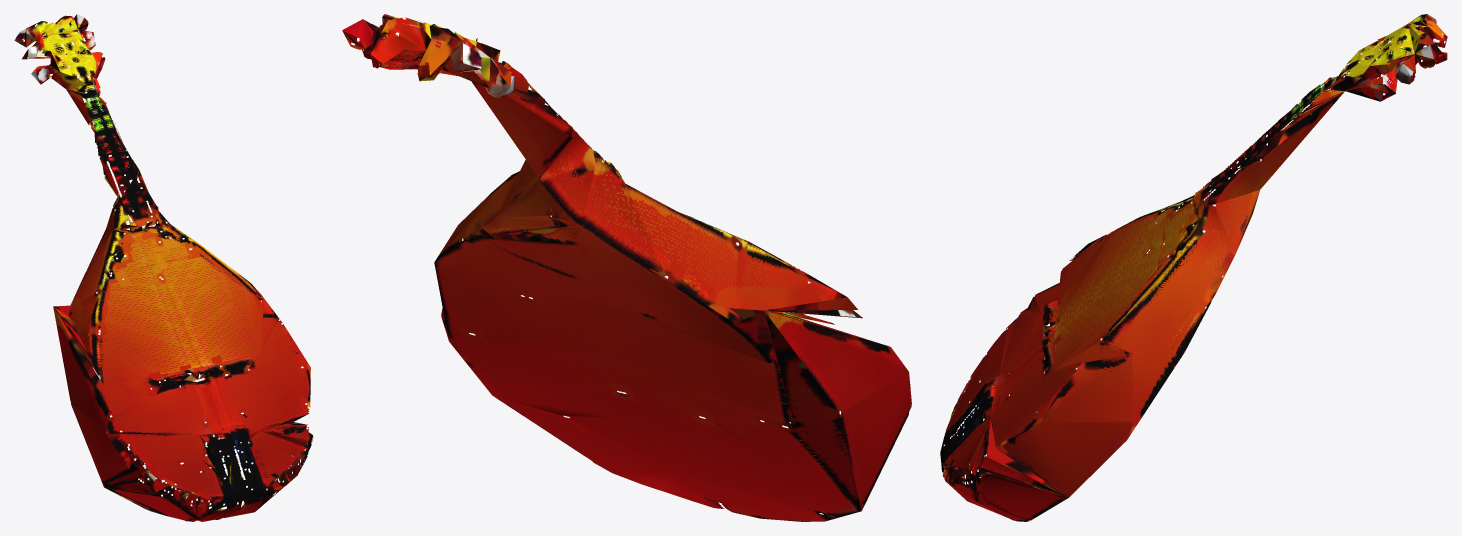
Rendered from Lute.glb.
3 renders of one model, left to right at view 1: azimuth 30°, elevation 25°; view 2: azimuth 150°, elevation 25°; view 3: azimuth 270°, elevation 25°, orthographic. The views are drawn at different scales.
Parts seen in each view (by area): view 1: temp_mesh.ply; view 2: temp_mesh.ply; view 3: temp_mesh.ply.
Part boxes in pixels (box(x1,y1,x2,y2)): temp_mesh.ply: box(14, 14, 313, 521); temp_mesh.ply: box(342, 14, 911, 521); temp_mesh.ply: box(940, 14, 1447, 521).
Size of the model in its own units: 0.4049 by 0.7 by 0.6703.
Materials: 1 (1 with a texture image).
